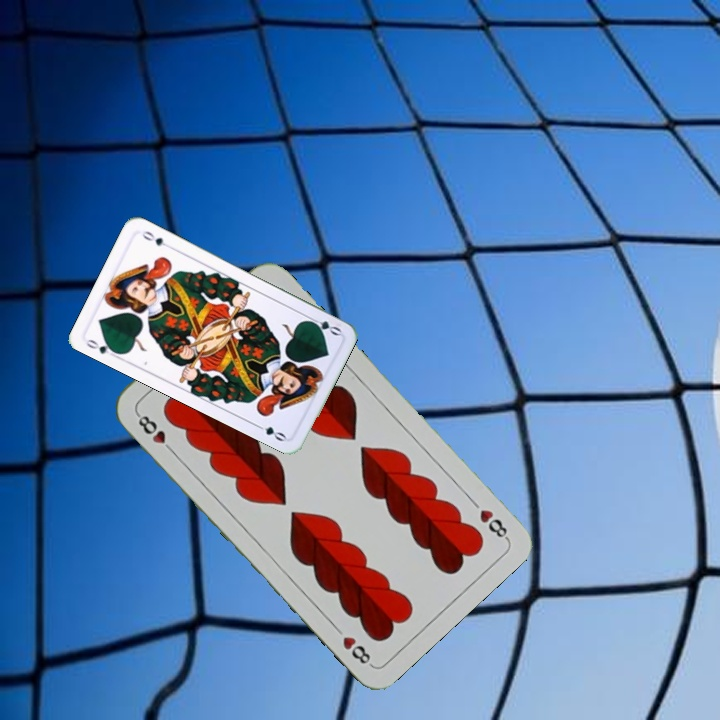GO: (303, 313, 343, 339), (82, 335, 121, 360)
H8: (466, 494, 511, 542), (132, 409, 177, 456)
